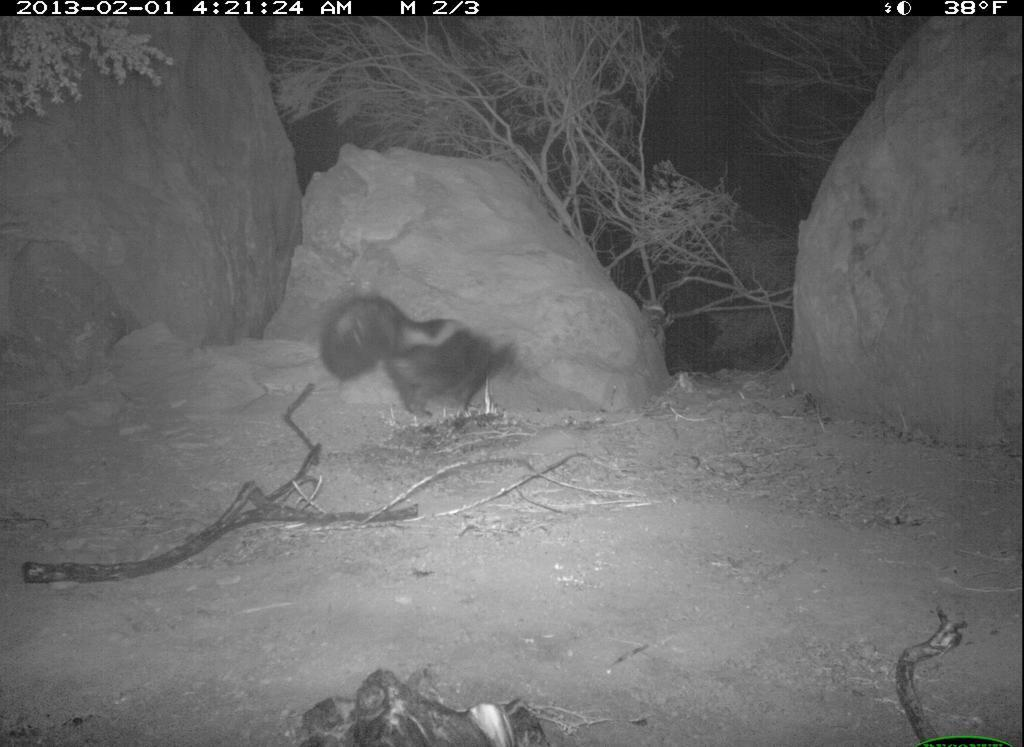skunk: (309, 280, 537, 450)
